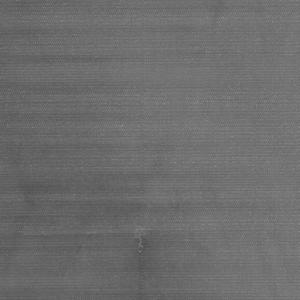Damage: (130, 220, 151, 271)
Wrinkle: (1, 154, 47, 291), (249, 232, 286, 300), (203, 1, 234, 74)
